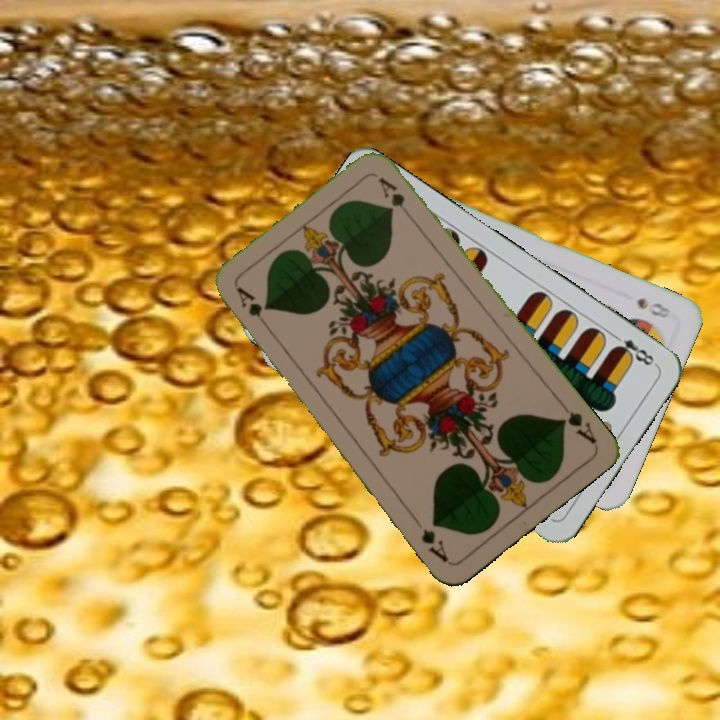E8: (607, 329, 657, 369)
GA: (555, 397, 599, 447), (232, 282, 273, 334)
S8: (633, 294, 674, 321)
